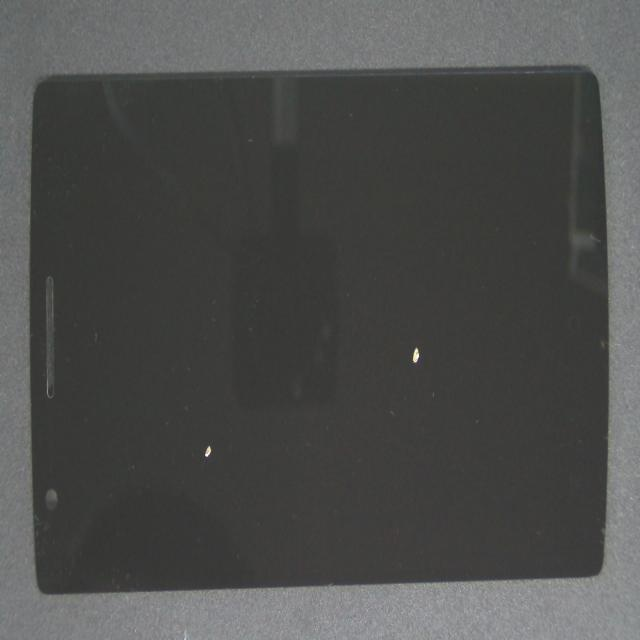stain: (217, 200, 640, 527), (124, 215, 316, 640)
